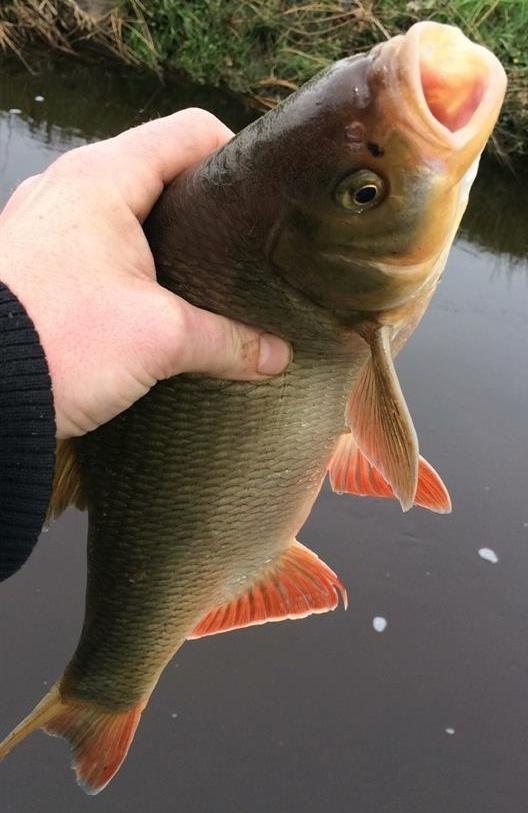Leuciscus idus: (1, 20, 508, 793)
